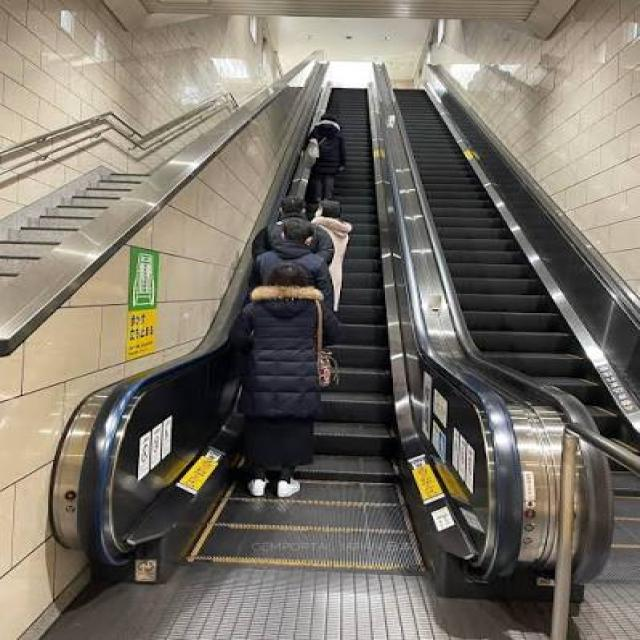escalator: (24, 56, 536, 639), (378, 56, 638, 638)
